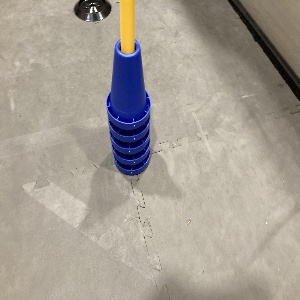Blue_5: (108, 39, 154, 173)
